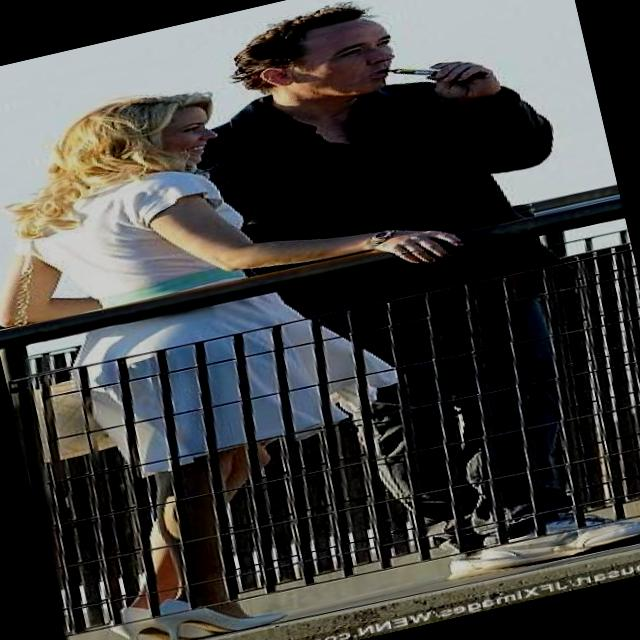smoke: (369, 43, 479, 92)
